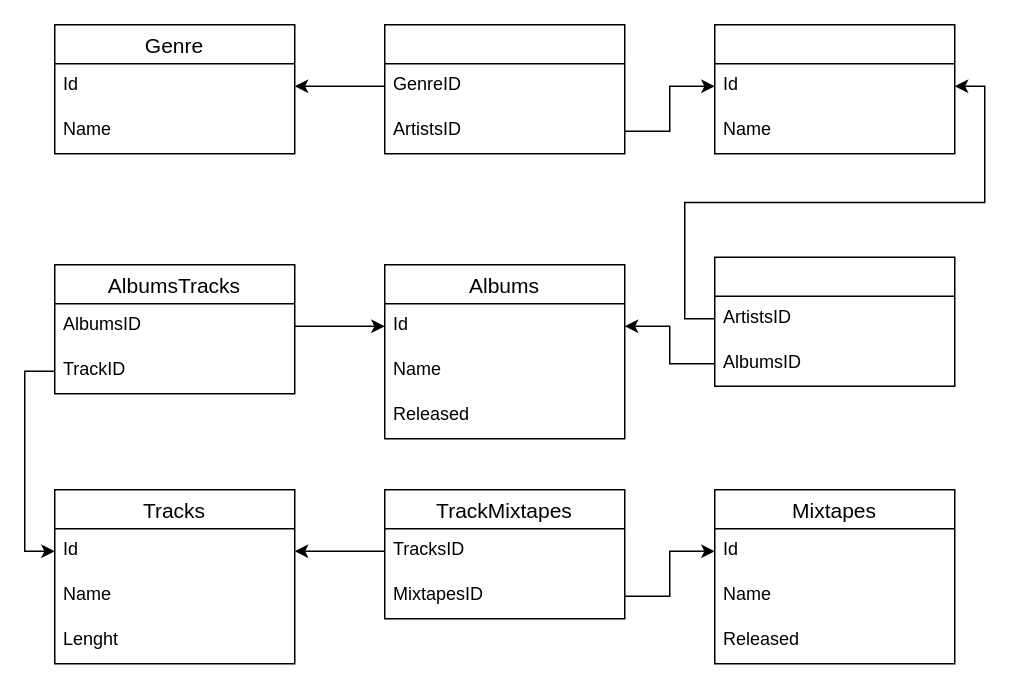
This 1010x689 diagram has some shape labels left out. The box of each missing label's shape, as (x1, y1, x2, y2) in pixels:
Artists: (713, 23, 955, 154)
ArtistsAlbums: (713, 256, 955, 386)
GenreArtists: (383, 23, 625, 154)
